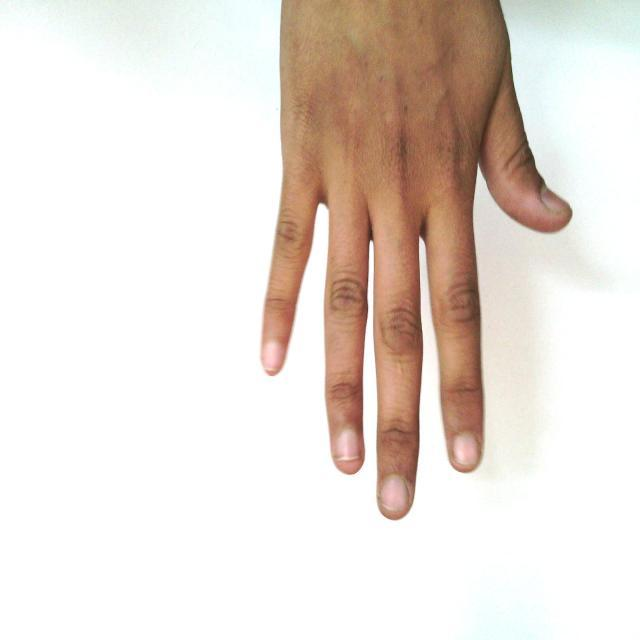Fingernail: (382, 476, 409, 512), (454, 434, 479, 466), (542, 187, 571, 213), (335, 430, 360, 460), (264, 343, 282, 370)
